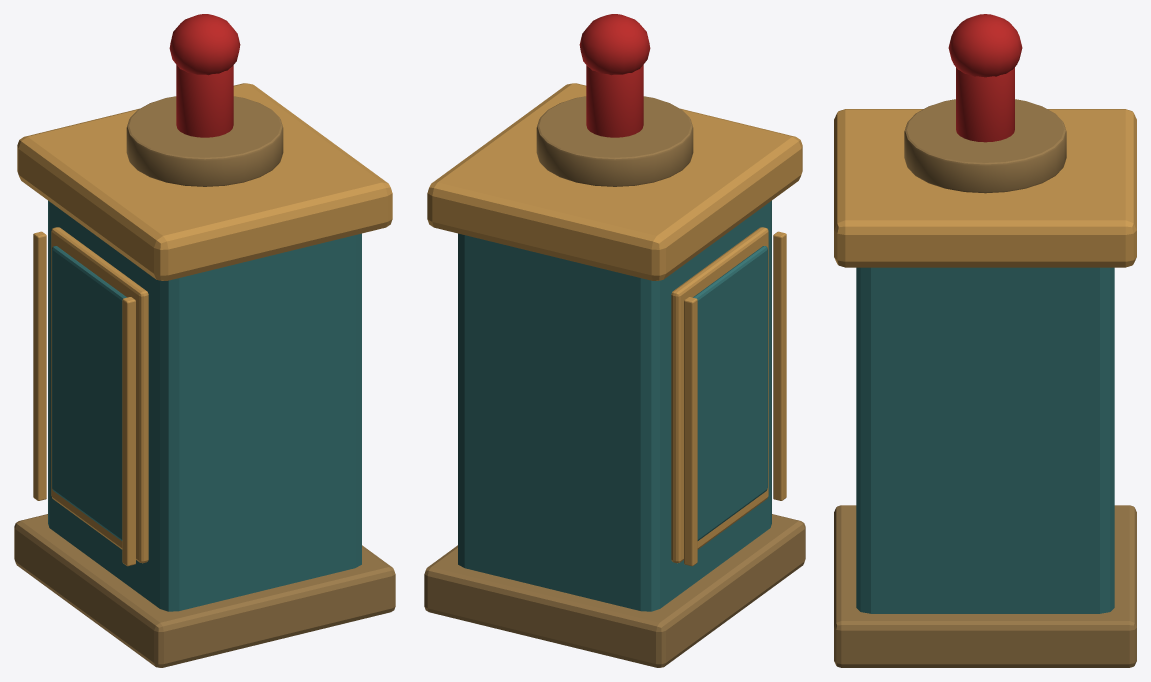
File: SM_CP_TurntableConsole.fbx
The picture shows the model from 3 angles, left to right: view 1: azimuth 30°, elevation 25°; view 2: azimuth 150°, elevation 25°; view 3: azimuth 270°, elevation 25°; orthographic projection. The views are drawn at different scales.
Visible parts, largest first — view 1: SM_CP_TurntableConsole; view 2: SM_CP_TurntableConsole; view 3: SM_CP_TurntableConsole.
Part boxes in pixels (box(x1,y1,x2,y2)): SM_CP_TurntableConsole: box(14, 14, 395, 667); SM_CP_TurntableConsole: box(424, 14, 805, 667); SM_CP_TurntableConsole: box(834, 14, 1136, 667).
Size of what is drawn, in the model's own units: 79.5 by 82 by 177.
